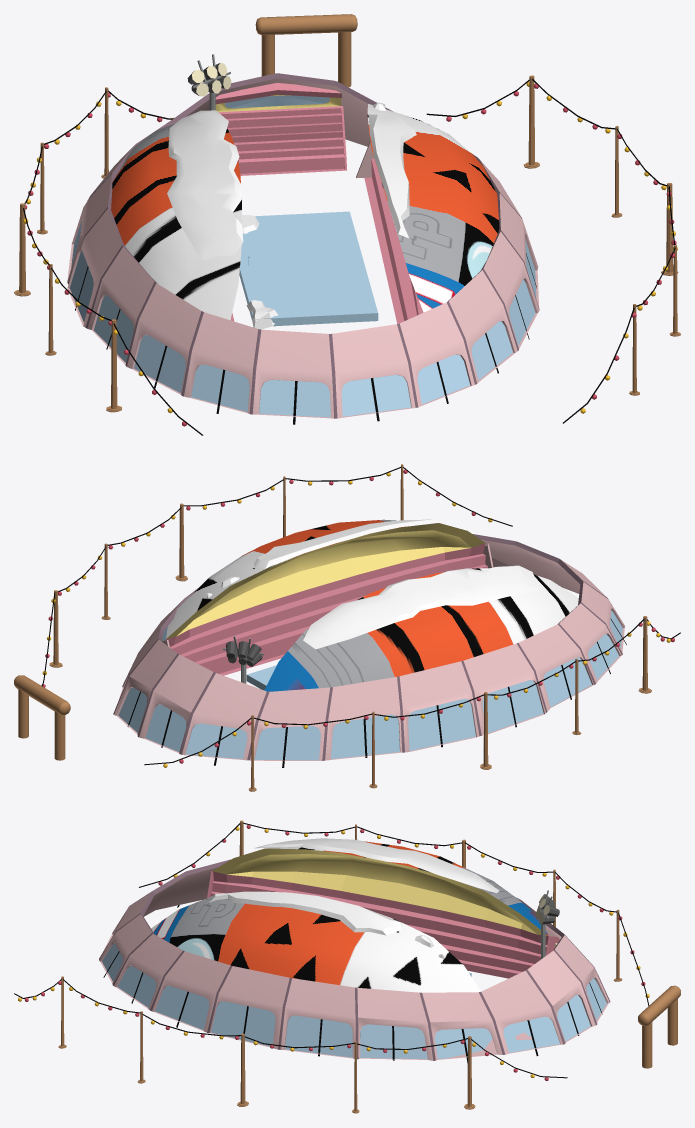
Rendered from Neighborhood_JamboreeSquare_02.fbx.
The picture shows the model from 3 angles, top to bottom: view 1: azimuth 30°, elevation 25°; view 2: azimuth 150°, elevation 25°; view 3: azimuth 270°, elevation 25°; orthographic projection. The views are drawn at different scales.
Parts seen in each view (by area): view 1: polySurface152, Building_JamboreeRoof, Snow, Object_Lights1, Object_Lights, Object_JamboreeGate, Object_WindowLines; view 2: polySurface152, Building_JamboreeRoof, Snow, Object_Lights1, Object_Lights, Object_JamboreeGate, Object_WindowLines; view 3: polySurface152, Building_JamboreeRoof, Snow, Object_Lights, Object_Lights1, Object_JamboreeGate, Object_WindowLines.
Part boxes in pixels (x1,y1,x2,y2): polySurface152: [67, 54, 539, 418]; Building_JamboreeRoof: [111, 104, 499, 320]; Snow: [167, 102, 416, 329]; Object_Lights1: [14, 87, 203, 435]; Object_Lights: [426, 75, 680, 423]; Object_JamboreeGate: [255, 14, 357, 87]; Object_WindowLines: [75, 253, 536, 424]; polySurface152: [113, 523, 624, 760]; Building_JamboreeRoof: [166, 519, 578, 691]; Snow: [207, 519, 541, 649]; Object_Lights1: [144, 616, 680, 791]; Object_Lights: [41, 464, 512, 687]; Object_JamboreeGate: [14, 675, 70, 760]; Object_WindowLines: [127, 618, 626, 767]; polySurface152: [99, 848, 610, 1060]; Building_JamboreeRoof: [151, 841, 548, 992]; Snow: [209, 838, 499, 958]; Object_Lights: [14, 976, 567, 1113]; Object_Lights1: [139, 820, 649, 1005]; Object_JamboreeGate: [638, 985, 680, 1068]; Object_WindowLines: [103, 905, 602, 1063].
Size of the model in its own units: 3369 by 798 by 4218.
